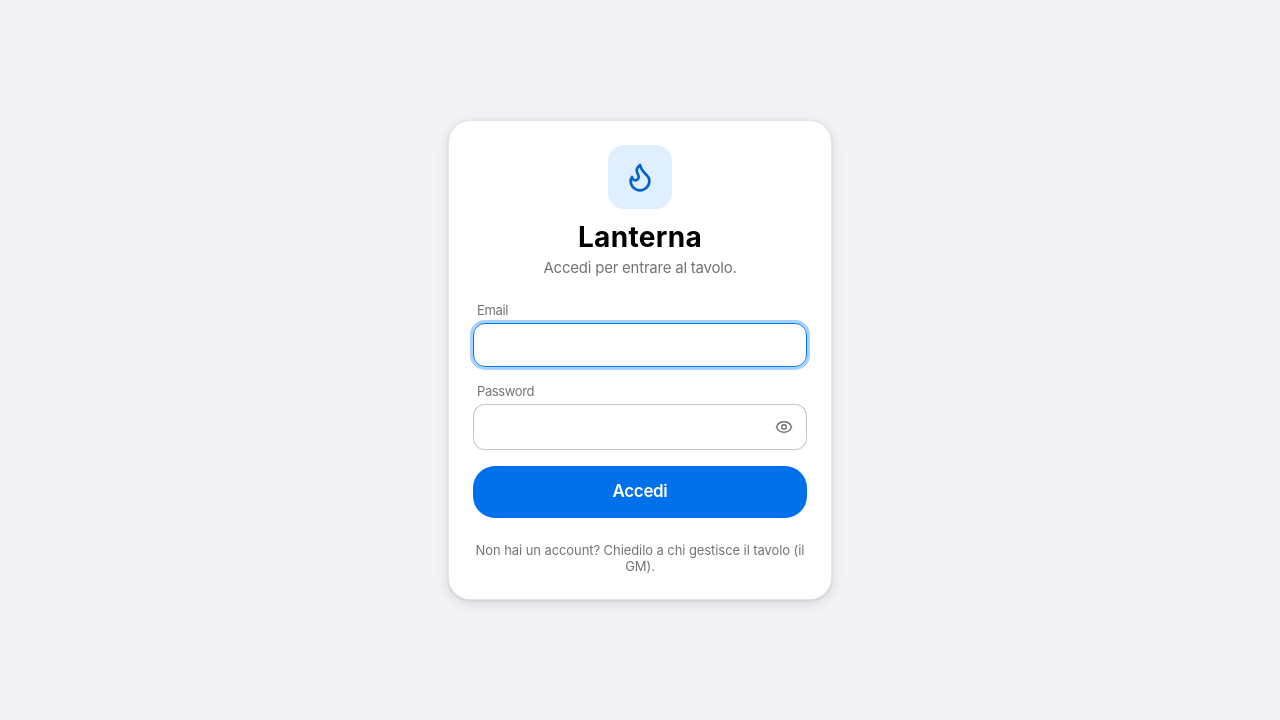
login › accede con Invio e mostra il tavolo
Type "luca@example.org" into the field labelled "Email" at (640, 345), box [486, 324, 794, 366]
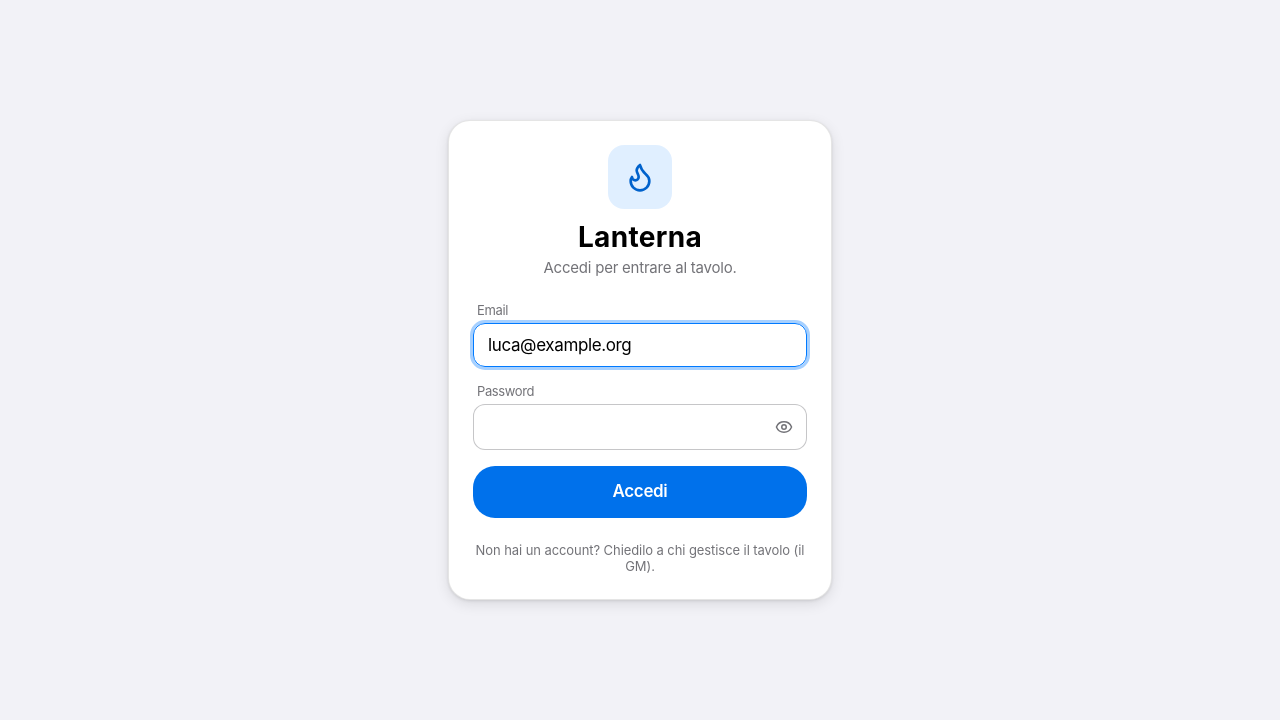
Type "password-lunga-123" into the password field labelled "Password" at (624, 426), box [486, 404, 762, 448]
Then press Enter
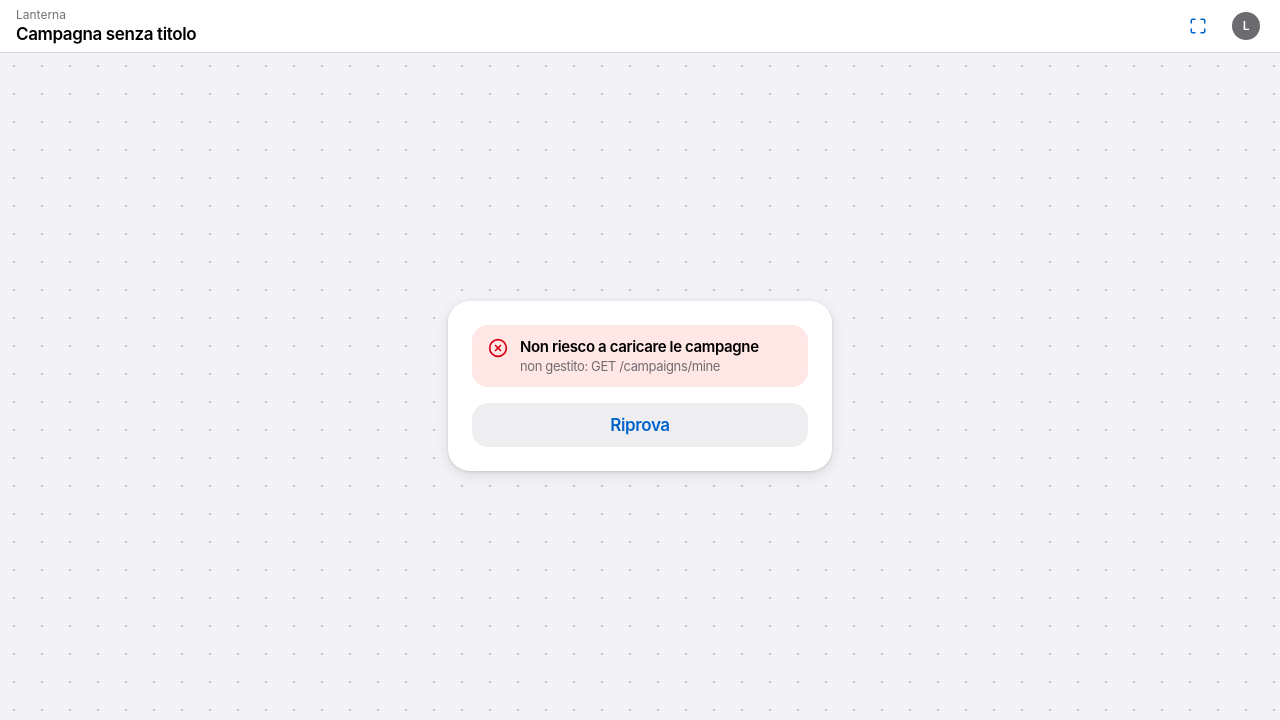
Expected: the element named "Mappa" is shown
